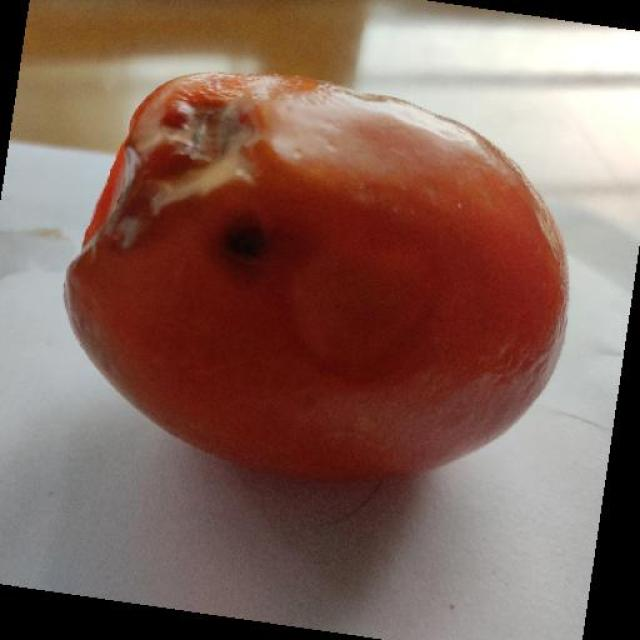Stale_tomato: (36, 34, 606, 536)
